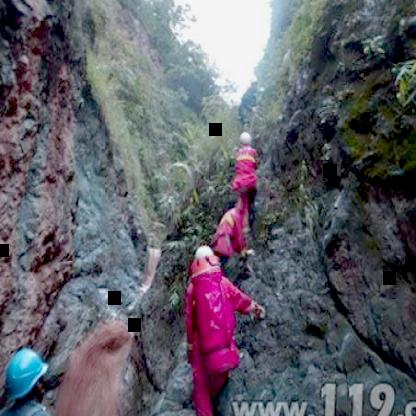helmet: (4, 344, 51, 404), (236, 130, 252, 148)
